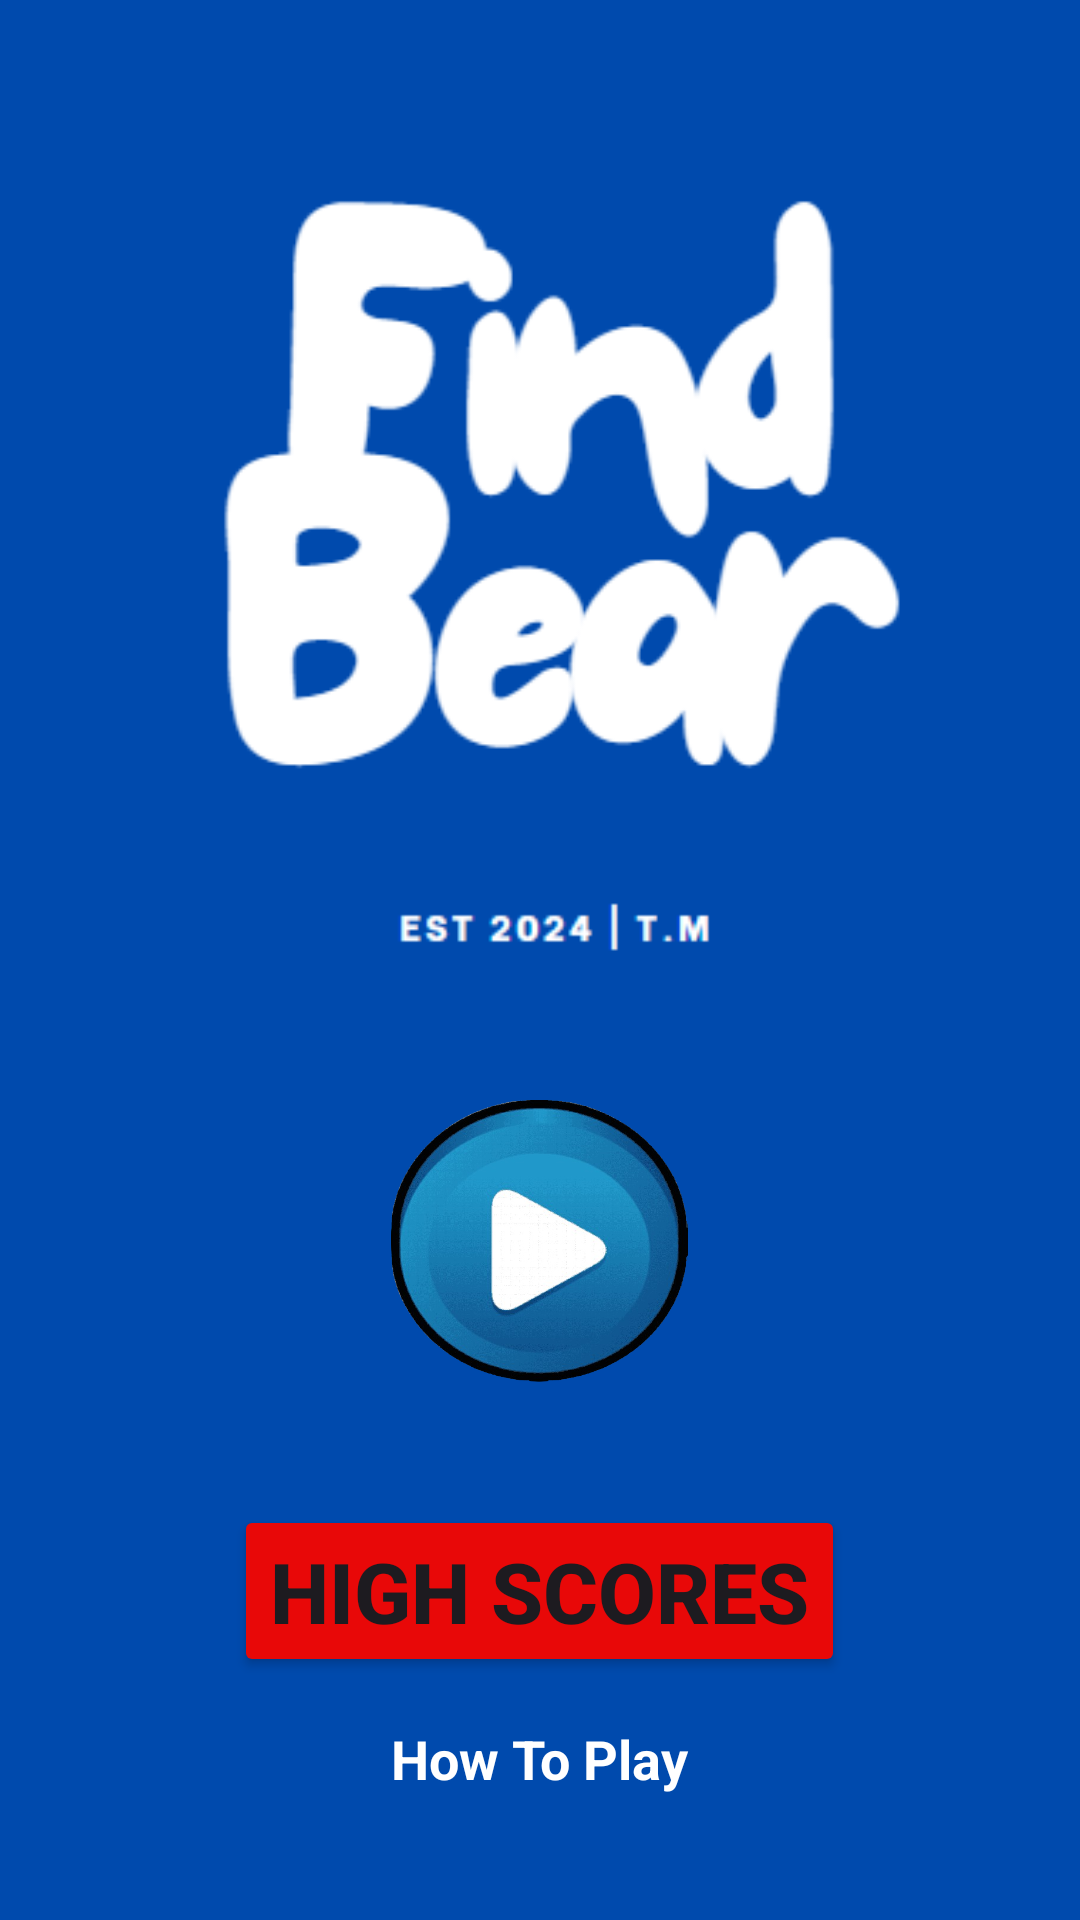

Screen size 1080 x 1920. Icon name, then its center in pixels as point (x, y):
play: point (539, 1241)
